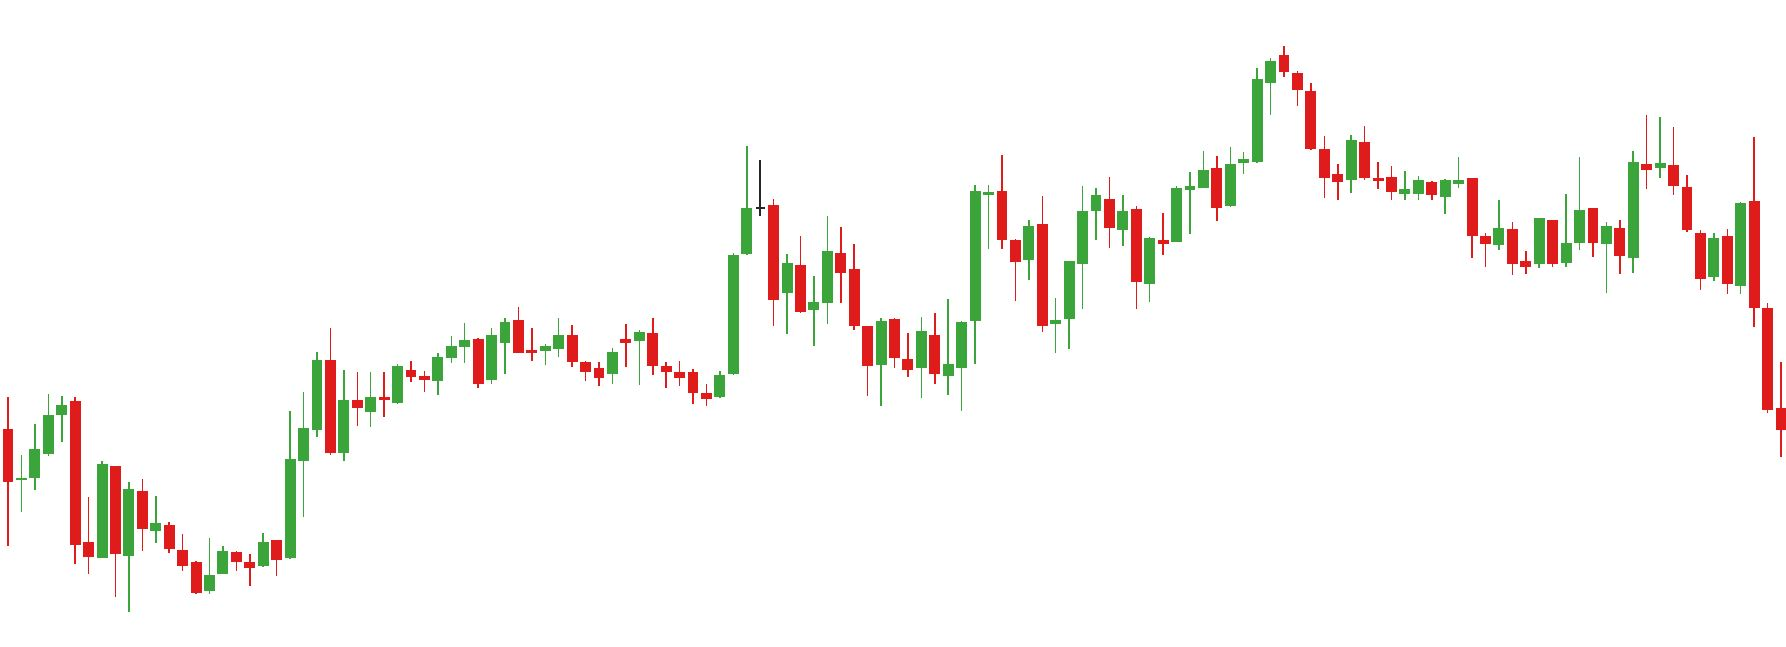sell: (1573, 110, 1653, 229)
